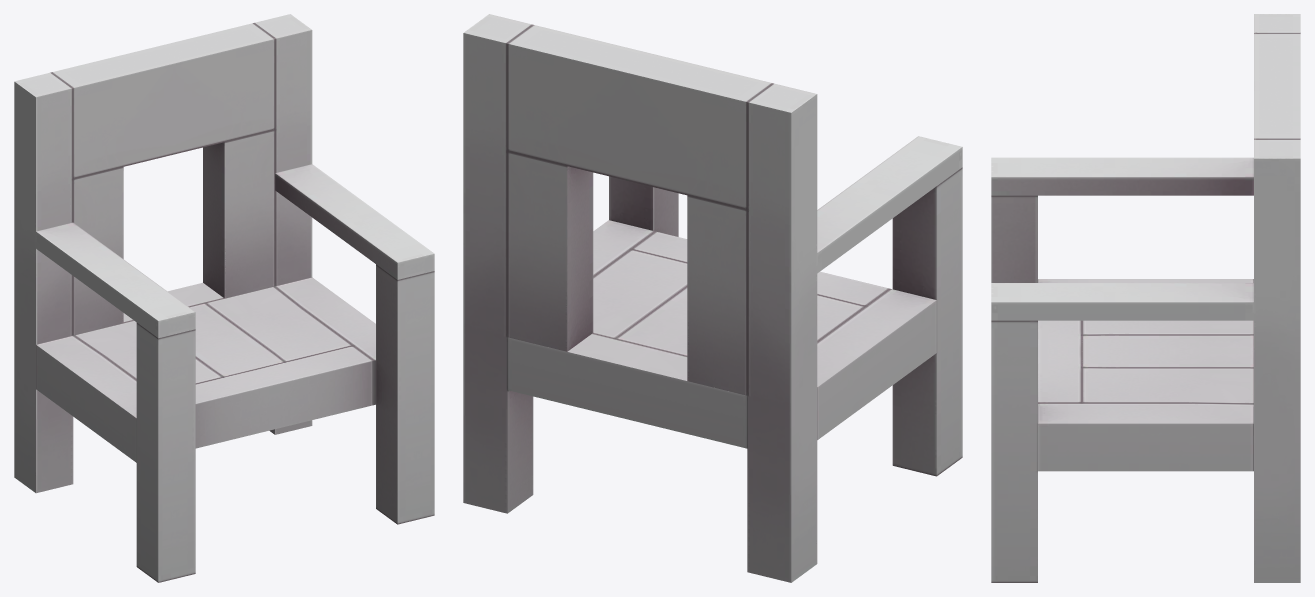
The model's file is my_defaultroom_chair_01.glb.
3 renders of one model, left to right at view 1: azimuth 30°, elevation 25°; view 2: azimuth 150°, elevation 25°; view 3: azimuth 270°, elevation 25°, orthographic. The views are drawn at different scales.
Visible parts, largest first — view 1: my_defaultroom_chair_01; view 2: my_defaultroom_chair_01; view 3: my_defaultroom_chair_01.
Part boxes in pixels (x1=…): my_defaultroom_chair_01: x1=14, y1=14, x2=434, y2=582; my_defaultroom_chair_01: x1=463, y1=14, x2=962, y2=582; my_defaultroom_chair_01: x1=991, y1=14, x2=1300, y2=582.
Size of the model in its own units: 0.00463 by 0.00634 by 0.00418.
Materials: 1 (1 with a texture image).
